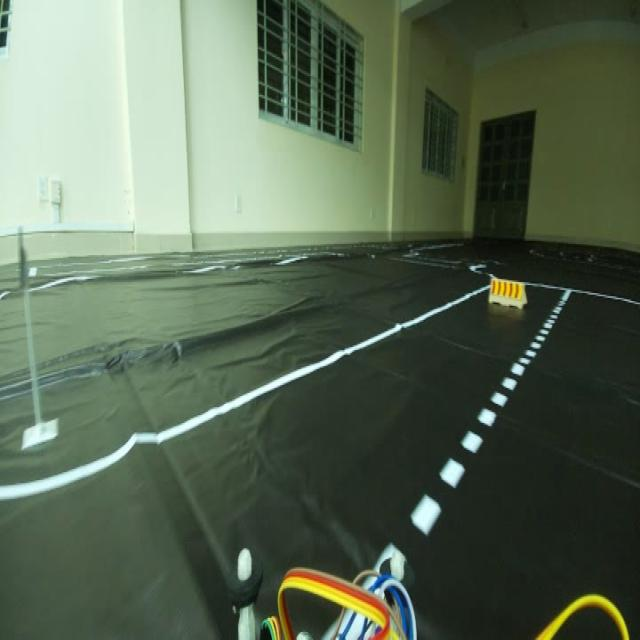roadblock: (487, 270, 529, 318)
